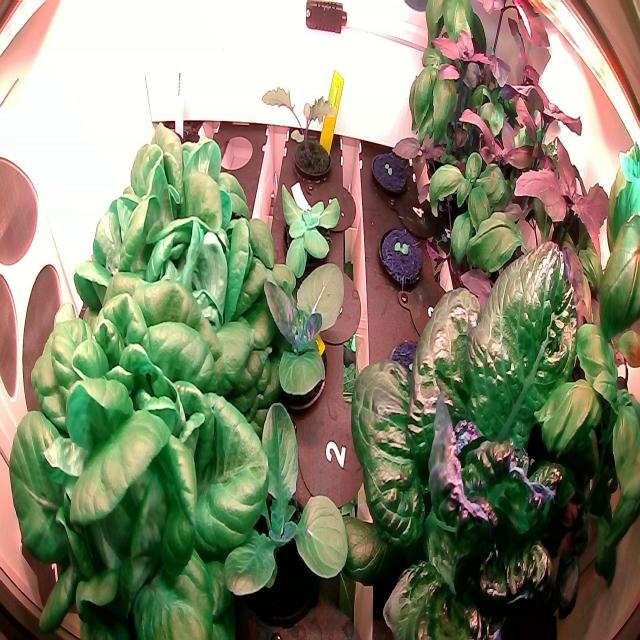Ready: (326, 234, 602, 640), (6, 294, 267, 639), (68, 120, 282, 362)
empty_pod: (215, 124, 257, 178)
germination: (371, 216, 432, 297), (365, 136, 416, 200)
young: (216, 394, 355, 636), (248, 245, 352, 416), (269, 170, 346, 302)
